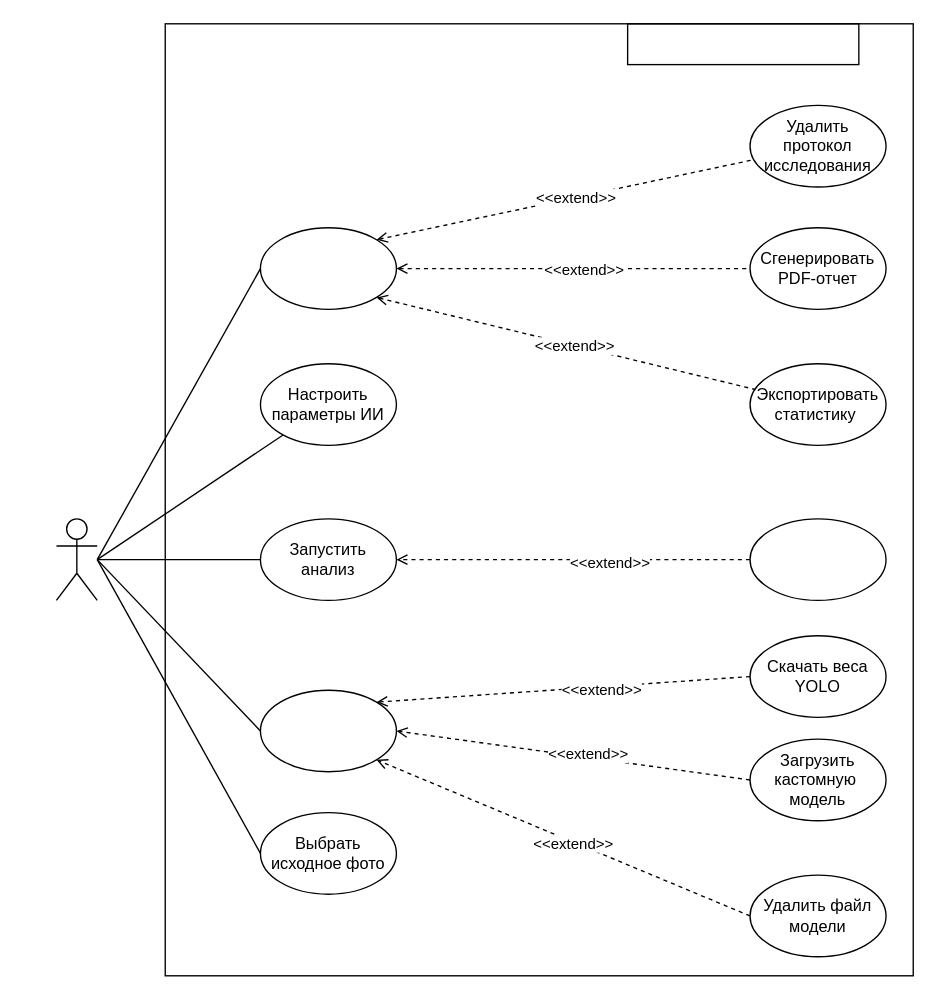
This 937x1000 diagram has some shape labels left out. The shapes that lost their labels are listed below. From the top down, each one's centre as x and y in pixels, then its label:
At point 742,43: "Десктопное приложение".
At point 327,267: "Посмотреть историю исследований".
At point 76,558: "Пользователь".
At point 817,558: "Сформировать протокол".
At point 327,730: "Открыть менеджер моделей".
